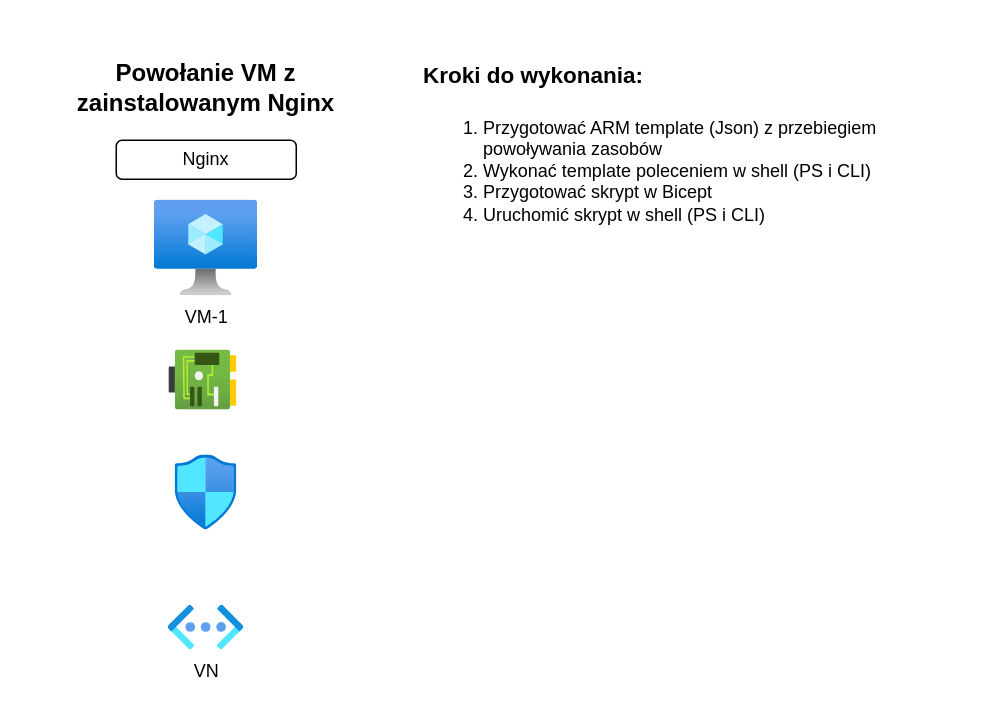
This 996x707 diagram has some shape labels left out. The centre of each missing label's shape, as x and y in pixels:
"NI" belongs at [202,380].
"NSG" belongs at [205,492].
